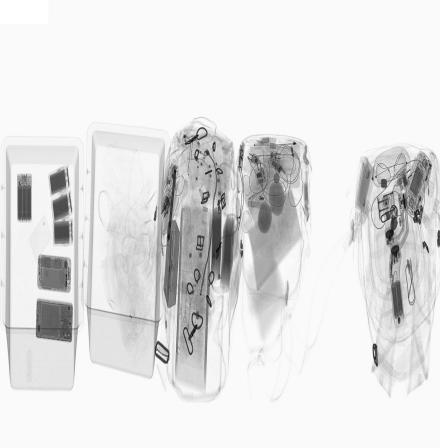Powerbank: (17, 173, 32, 222)
